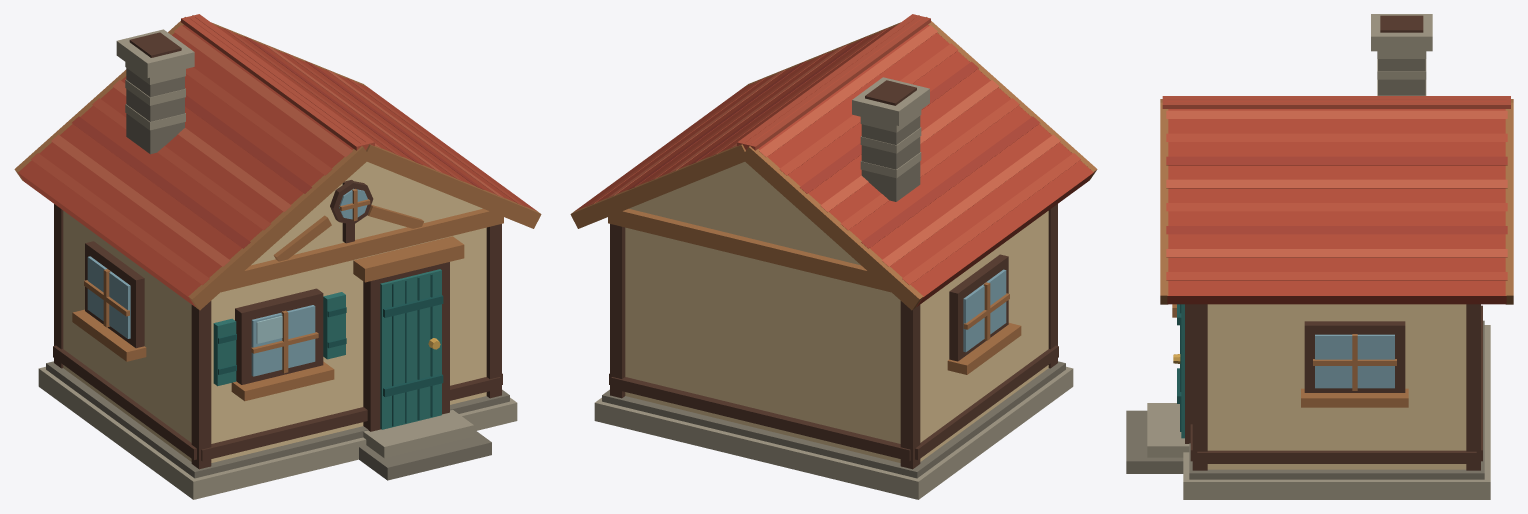
File: house.glb
3 views of the same model, side by side, from view 1: azimuth 30°, elevation 25°; view 2: azimuth 150°, elevation 25°; view 3: azimuth 270°, elevation 25° (orthographic).
Parts seen in each view (by area): view 1: TinyWorld Cottage; view 2: TinyWorld Cottage; view 3: TinyWorld Cottage.
Boxes of the visible parts, x1,y1,x2,y2 form: TinyWorld Cottage: (14,14,541,499); TinyWorld Cottage: (570,14,1097,499); TinyWorld Cottage: (1126,14,1513,499).
Size of the model in its own units: 4.02 by 3.93 by 3.88.
